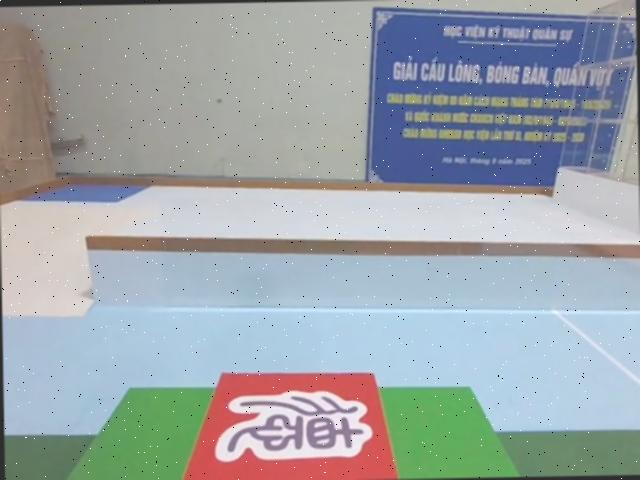R2 Fake: (167, 364, 404, 480)
